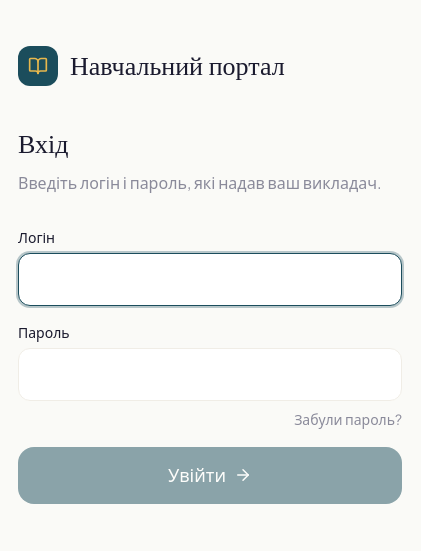
Test: PortalLoginPage › renders a generic error on 401 without storing a session
Type "olena" into the field labelled "Логін" at (210, 279), box [18, 253, 402, 306]
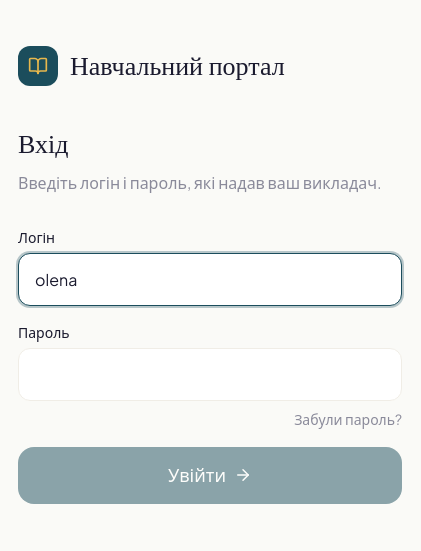
Type "secret" into the password field labelled "Пароль" at (210, 374), box [18, 348, 402, 401]
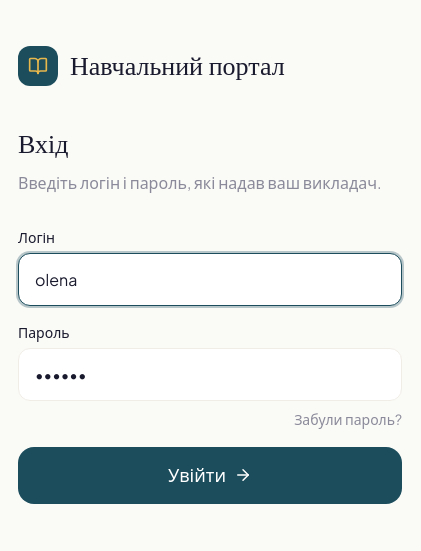
Click the button "Увійти" at (210, 475), box [18, 447, 402, 504]
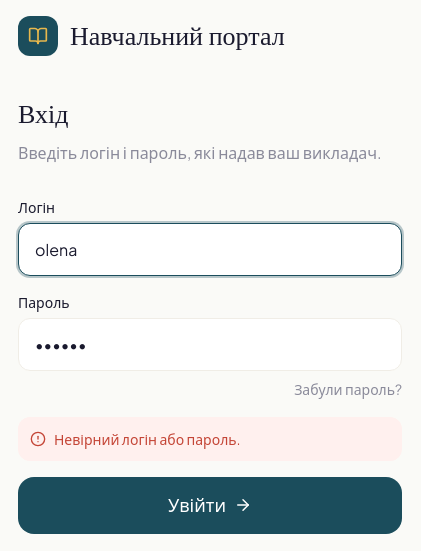
Check: the text "Невірний логін або пароль." is shown, box [18, 417, 402, 461]
